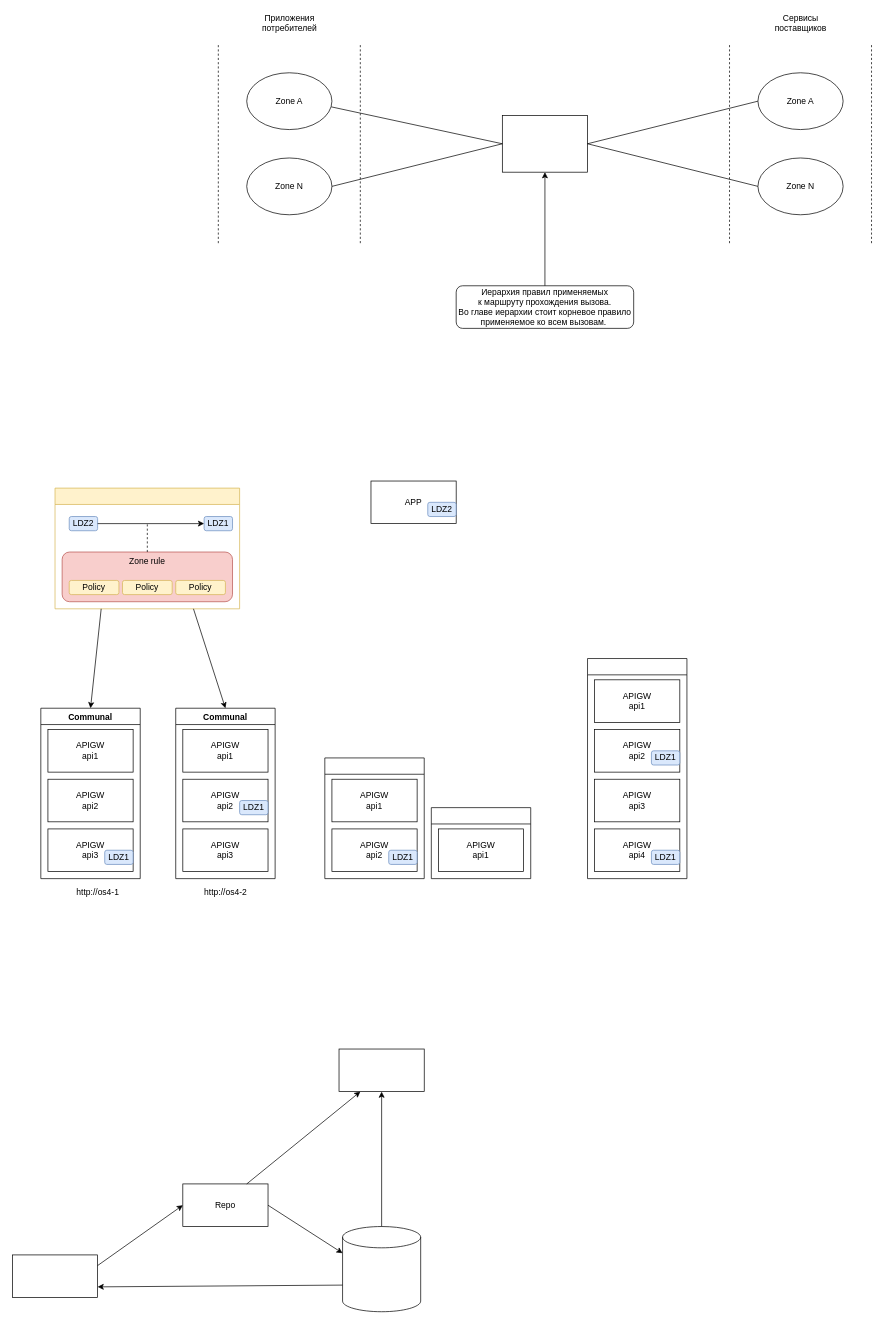
Some shapes in this 885 by 1324 pixel diagram are drawn without their labels. The shapes that lost their labels are listed below. From the top down, each one's centre as x and y in pixels, then its label:
At point 545,143: "API Gateway".
At point 147,548: "Route table".
At point 637,768: "provider10000".
At point 374,818: "provider1".
At point 481,843: "provider2".
At point 381,1070: "Распределитель данных".
At point 55,1276: "APIM".
At point 381,1269: "Persistence".
